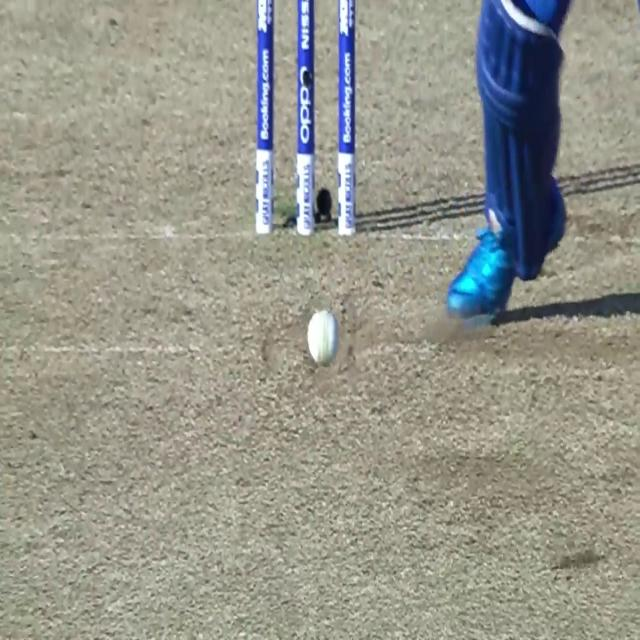ball: (307, 308, 338, 368)
